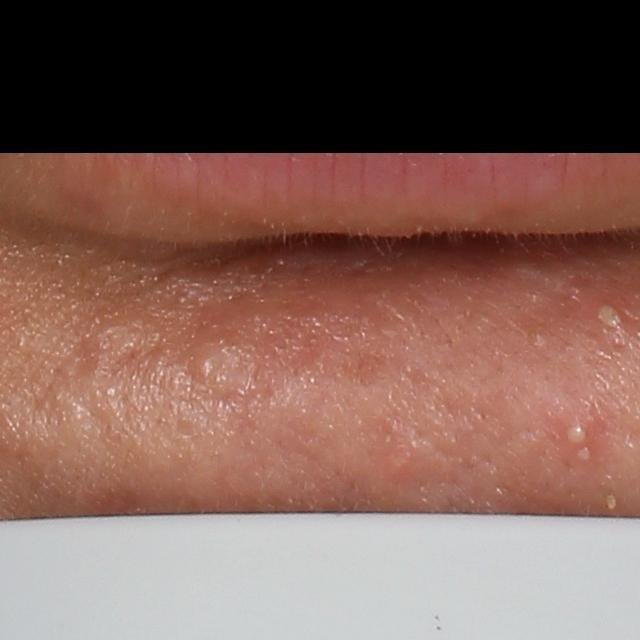hypertrophic_scar: (78, 316, 157, 372)
pustule: (589, 300, 627, 332), (560, 420, 591, 447), (565, 440, 597, 463)
